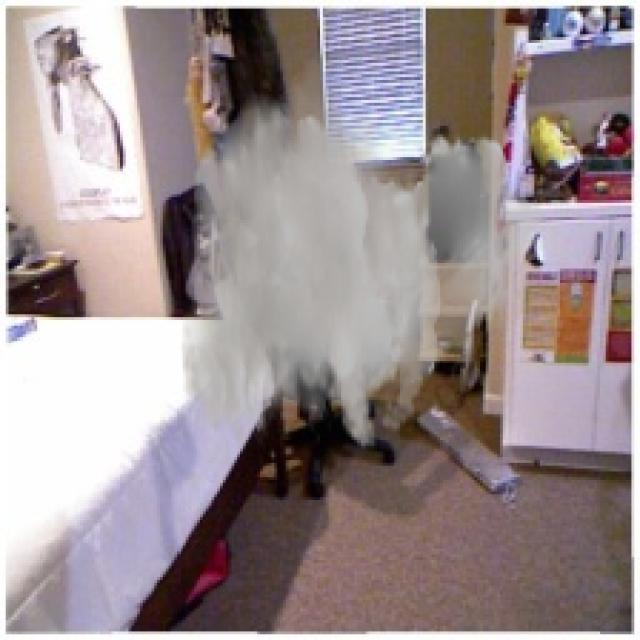smoke: (180, 49, 557, 452)
